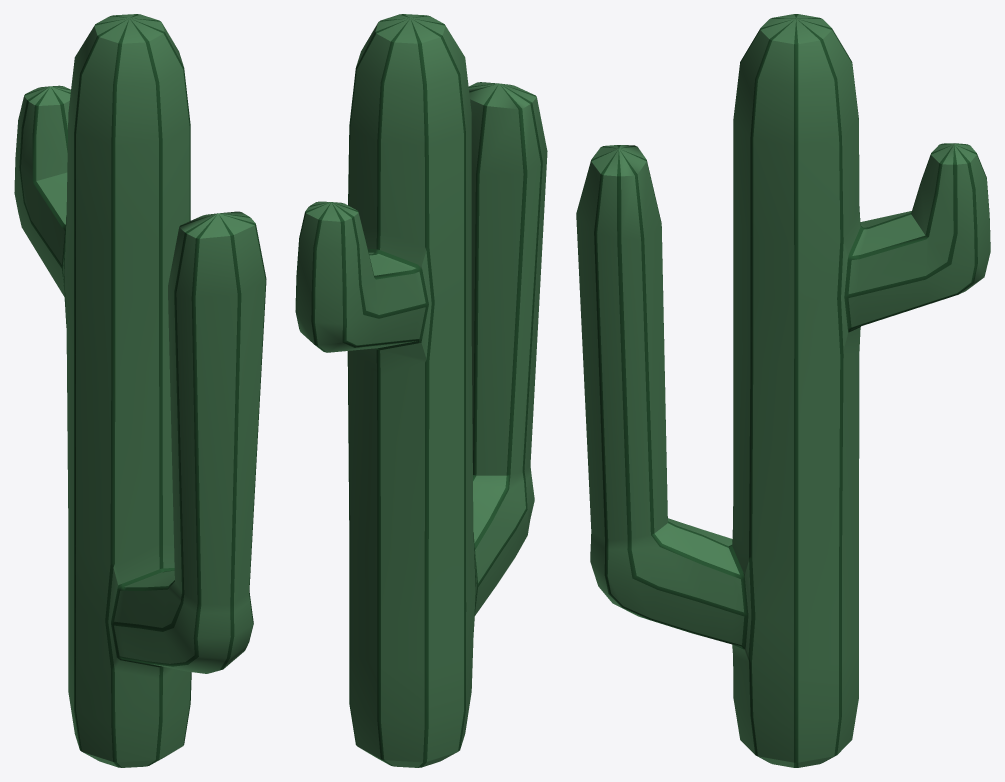
File: Cactus.fbx
The picture shows the model from 3 angles, left to right: view 1: azimuth 30°, elevation 25°; view 2: azimuth 150°, elevation 25°; view 3: azimuth 270°, elevation 25°; orthographic projection.
Visible parts, largest first — view 1: pCylinder1; view 2: pCylinder1; view 3: pCylinder1.
Part boxes in pixels (x1,y1,x2,y2): pCylinder1: (14, 14, 266, 767); pCylinder1: (295, 14, 547, 767); pCylinder1: (576, 14, 990, 767).
Size of the model in its own units: 37.42 by 241 by 123.
